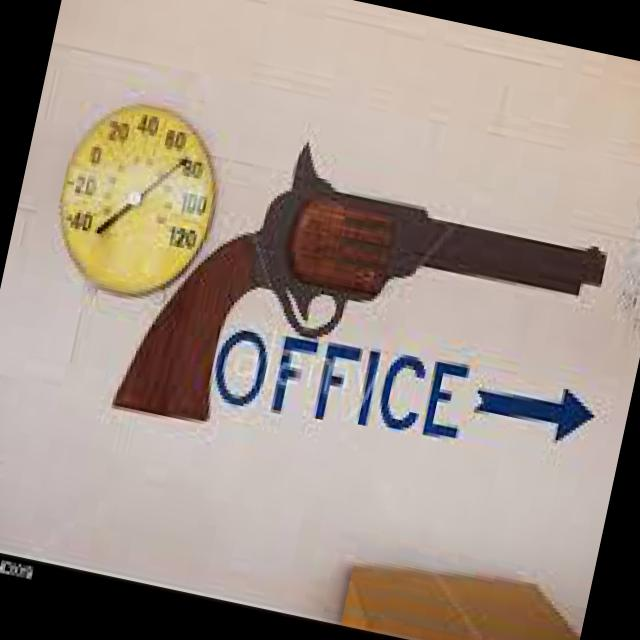handgun: (95, 84, 628, 493)
